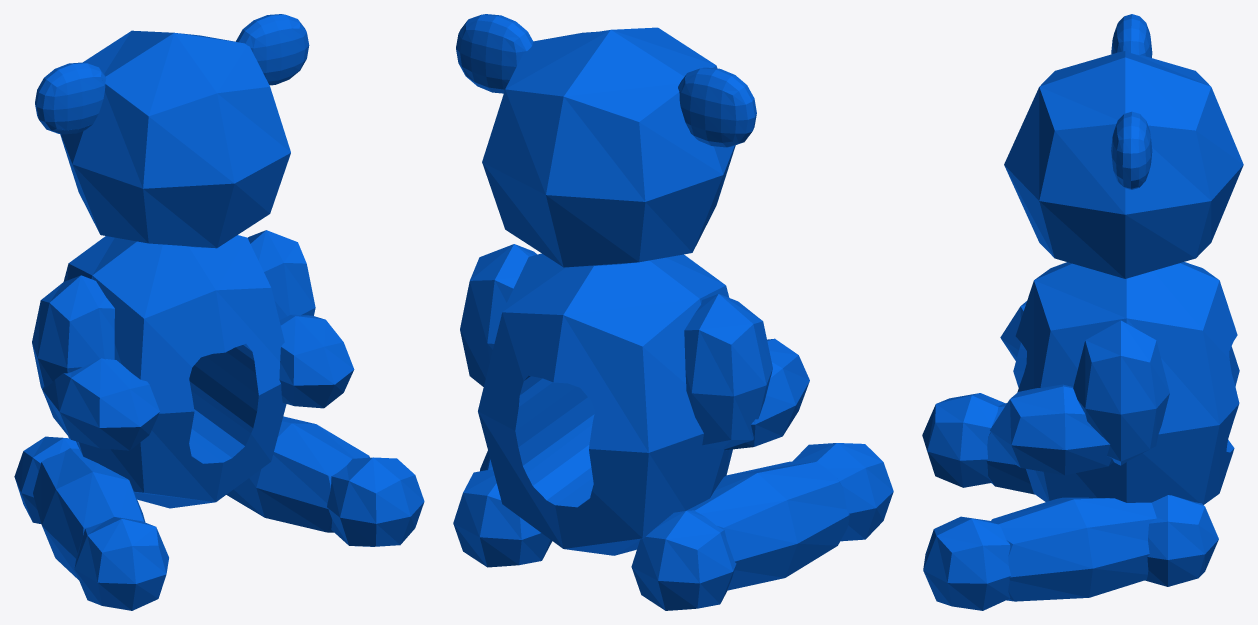
File: project-03.glb
3 views of the same model, side by side, from view 1: azimuth 30°, elevation 25°; view 2: azimuth 150°, elevation 25°; view 3: azimuth 270°, elevation 25° (orthographic). The views are drawn at different scales.
Visible parts, largest first — view 1: blank teddi_300; view 2: blank teddi_300; view 3: blank teddi_300.
Boxes of the visible parts, x1,y1,x2,y2 form: blank teddi_300: (14, 14, 424, 610); blank teddi_300: (453, 14, 893, 610); blank teddi_300: (922, 14, 1243, 610).
Bounding box in the file's own units: 213 × 300 × 177.
